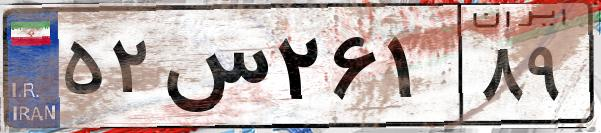1: (385, 28, 445, 110)
2: (270, 28, 330, 110), (110, 28, 158, 98)
5: (57, 26, 110, 100)
6: (330, 28, 385, 110)
8: (475, 38, 525, 113)
9: (525, 38, 570, 115)
س: (158, 20, 270, 120)
